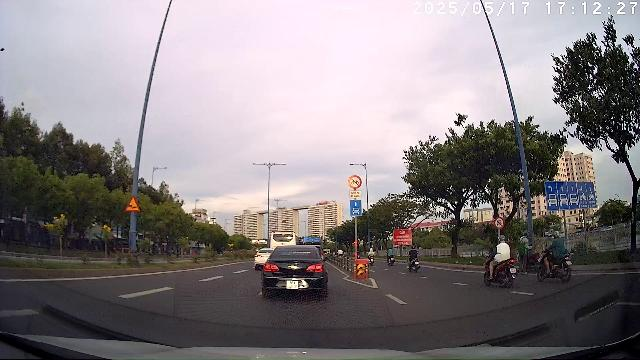103a-cam-oto: (493, 217, 505, 229)
